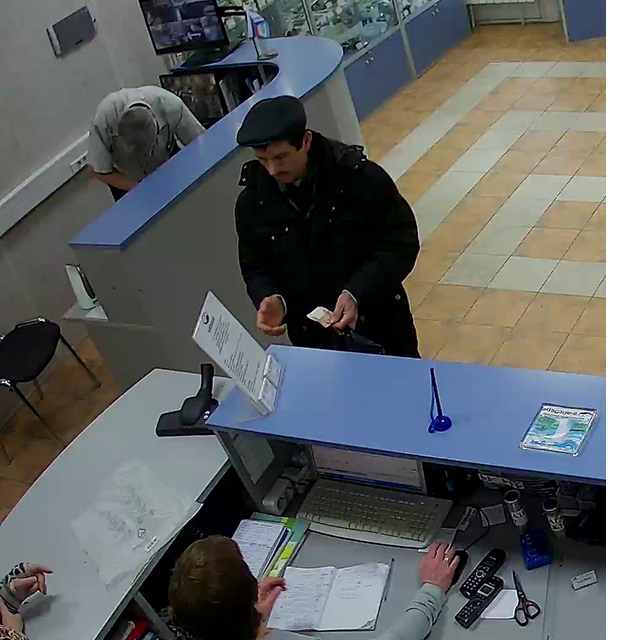banknotes: (304, 307, 339, 326)
